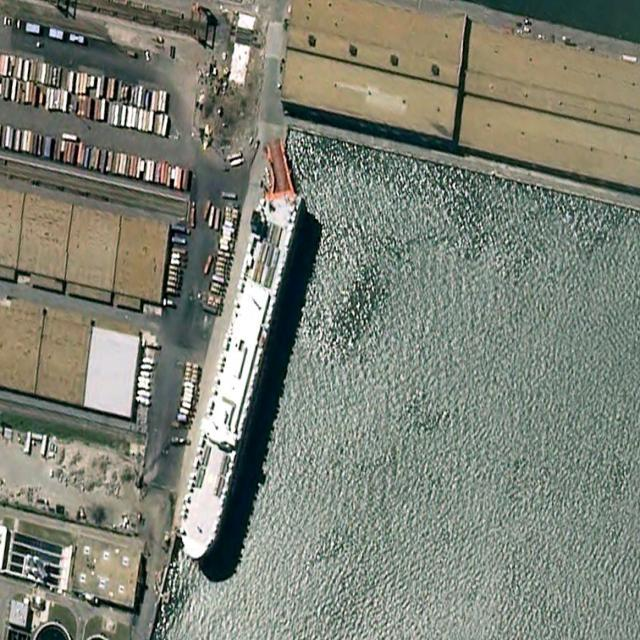RoRo: (169, 174, 304, 569)
